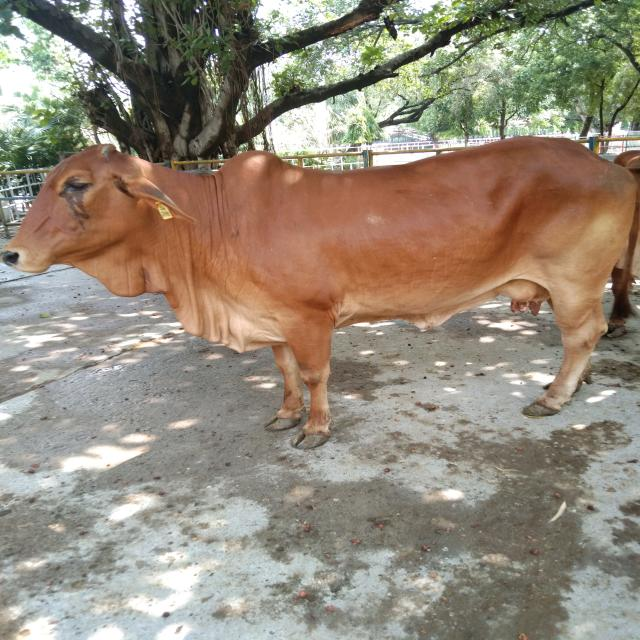1: (211, 150, 308, 175)
Hoof: (291, 428, 330, 450), (521, 401, 560, 418), (263, 415, 301, 431)
